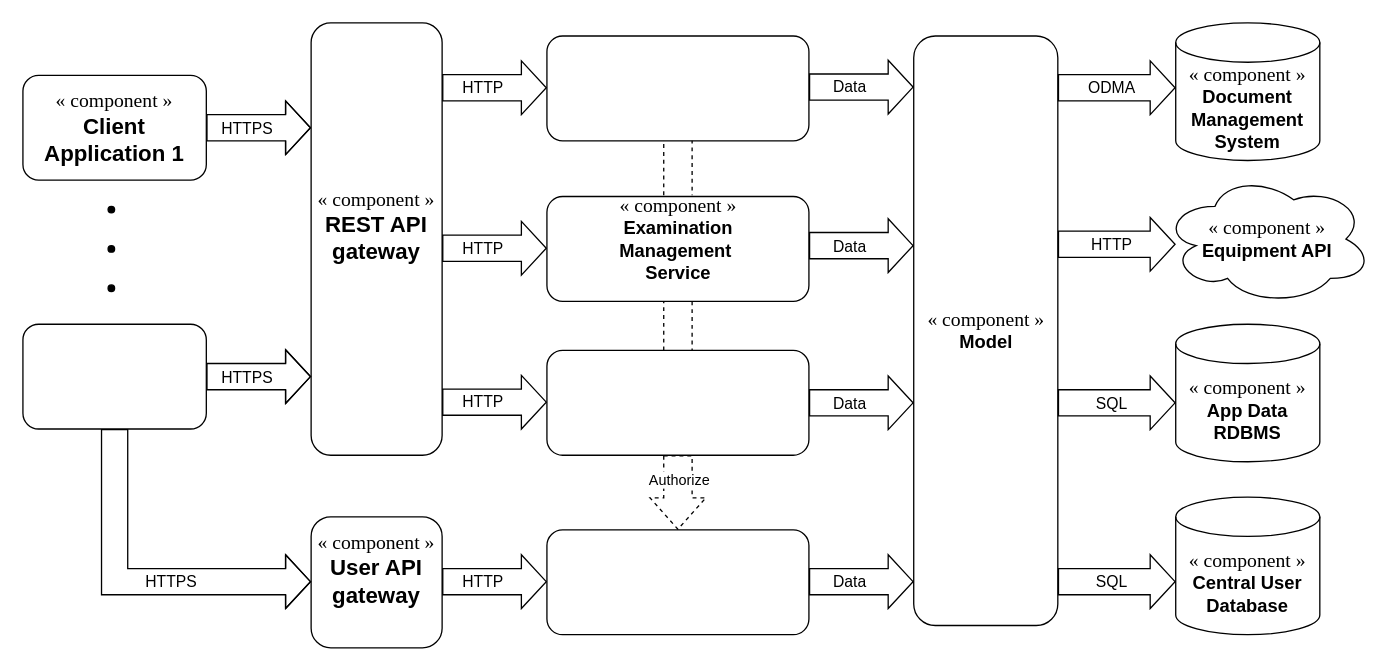
The diagram is 1395 pixels wide and 671 high, and some of its shapes have lost their labels. The centre of each missing label's shape, as x and y in pixels:
"« component » Client Application N" belongs at pixel 114 376.
"« component » Equipment Management Service" belongs at pixel 677 88.
"« component » Reservation Management Service" belongs at pixel 677 402.
"« component » User Management Service" belongs at pixel 677 582.
